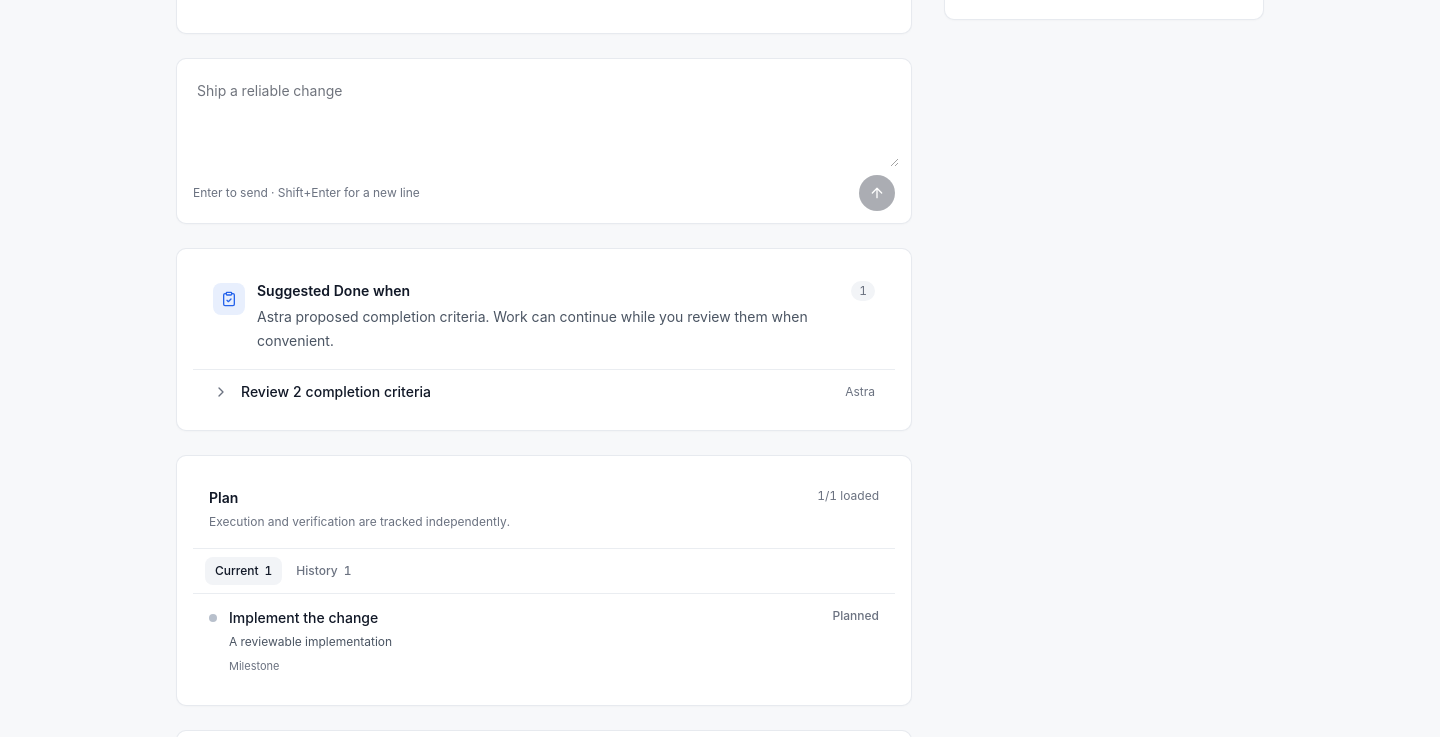
it: retries a failed lazy detail load without closing the review
(page scrolled)
Click the button "Review 2 completion criteria Astra". click: (267,392)
box: x1=193 y1=370 x2=895 y2=414
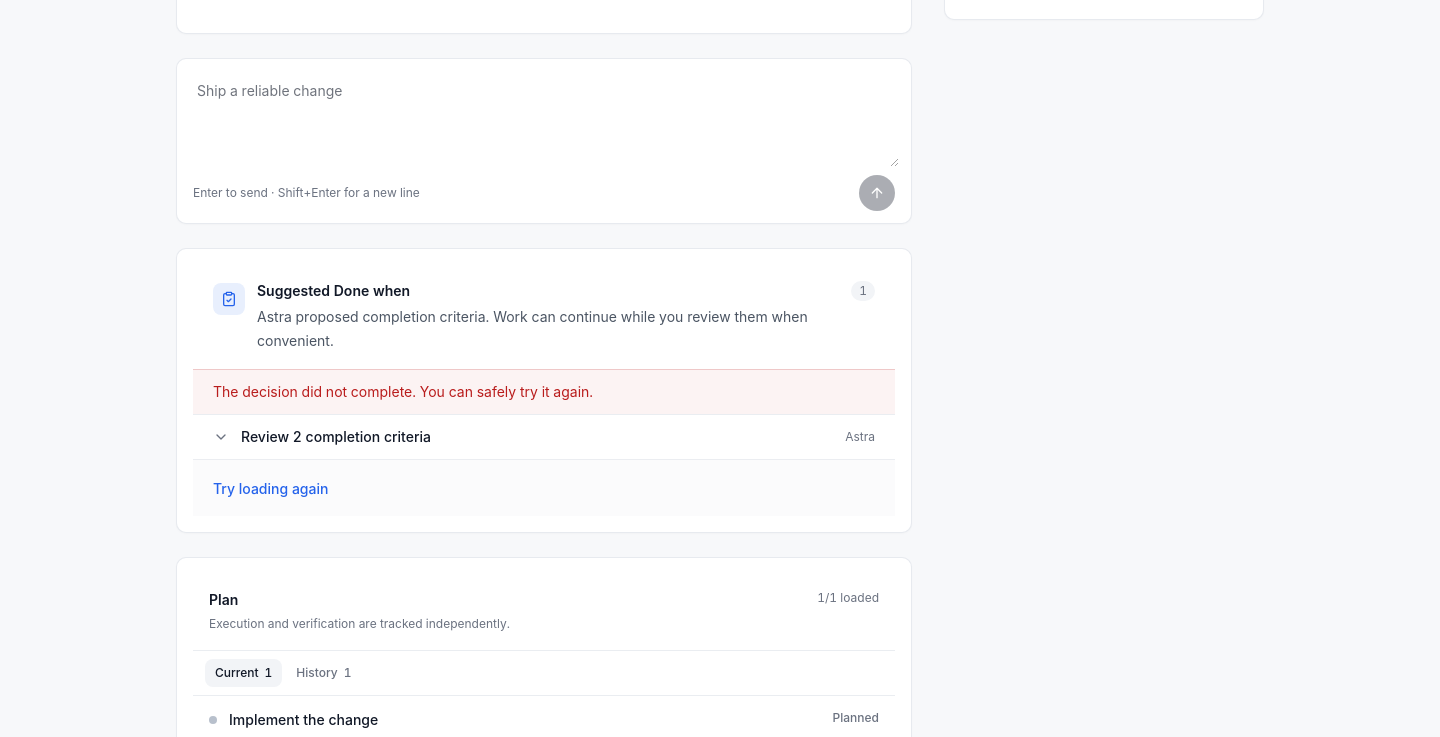
Now the button "Try loading again" is shown
Click the button "Try loading again". click: (271,489)
box: x1=213 y1=479 x2=328 y2=499
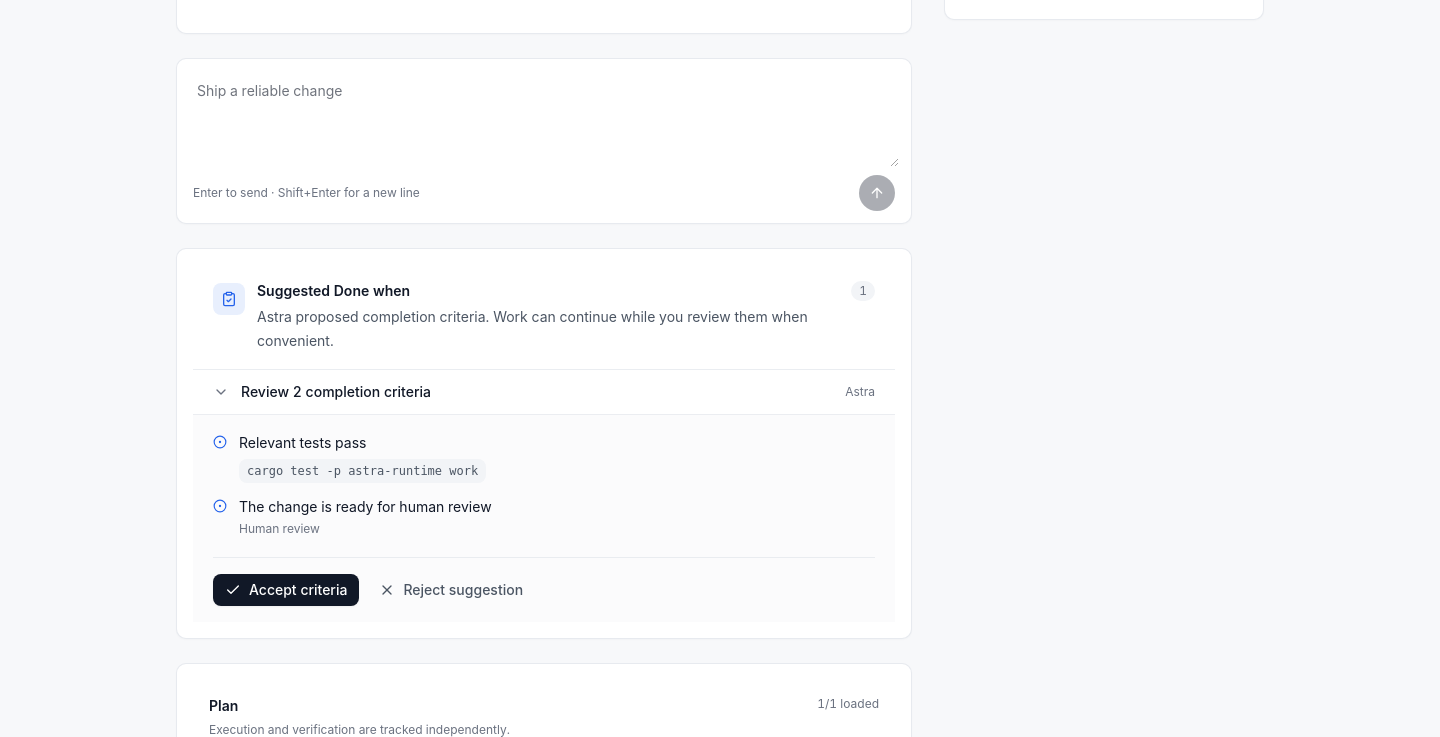
Now the text "Relevant tests pass" is shown, box x1=239 y1=434 x2=366 y2=451
